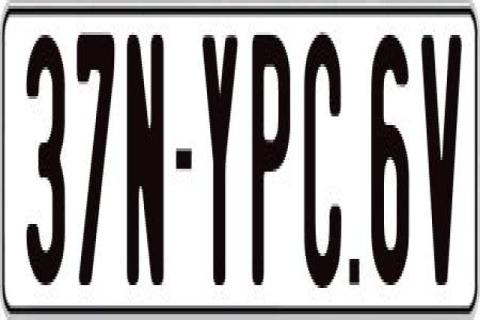0: (27, 32, 70, 291), (370, 35, 412, 291), (75, 26, 113, 288)
C: (303, 26, 342, 294)
N: (126, 32, 163, 294)
P: (252, 35, 290, 288)
V: (422, 29, 466, 297)
Y: (200, 35, 240, 294)
